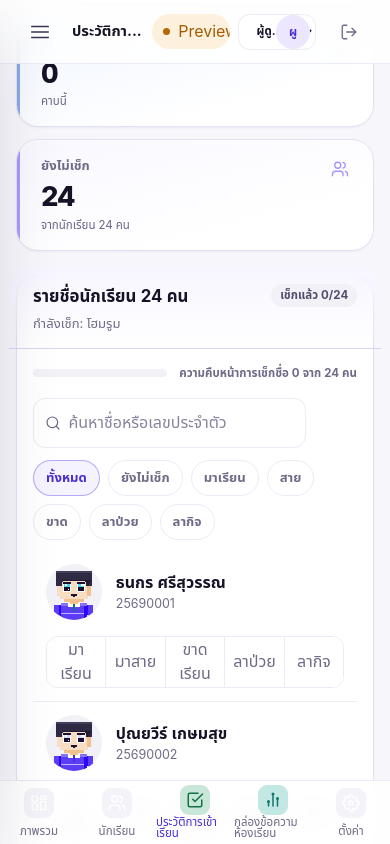
it: the register › says so rather than showing an empty list when nothing matches
(page scrolled)
Expected: the element showing "ธนกร ศรีสุวรรณ 25690001 มาเรียน มาสาย ขาดเรียน ลาป่วย ลากิจ" is shown, [33,552,357,702]
In the search field with placeholder "ค้นหาชื่อหรือเลขประจำตัว": (170, 423) [33,398,306,448], type "ไม่มีนักเรียนชื่อนี้"
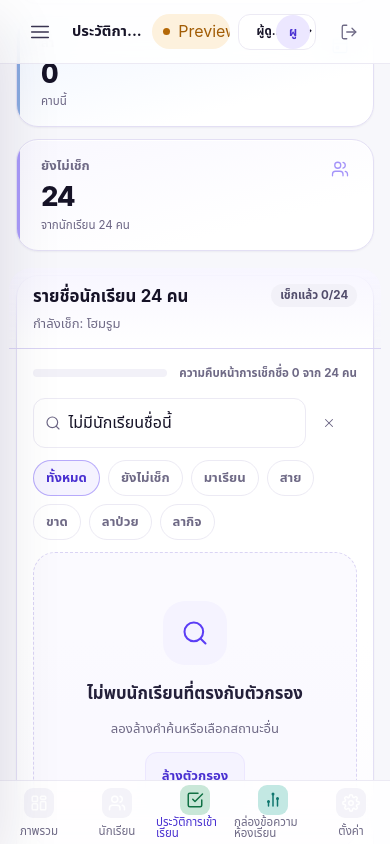
Result: the heading "ไม่พบนักเรียนที่ตรงกับตัวกรอง" is shown at [87,681,303,707]
Note: A dead end with no way back is how somebody concludes the class has been emptied.
Click the button "ล้างตัวกรอง": click(195, 776) [145,752,245,800]
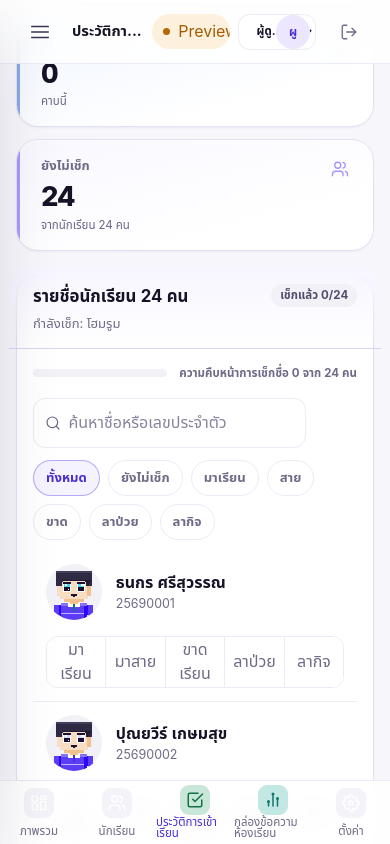
Result: the element showing "ธนกร ศรีสุวรรณ 25690001 มาเรียน มาสาย ขาดเรียน ลาป่วย ลากิจ" is shown at [33,552,357,702]
